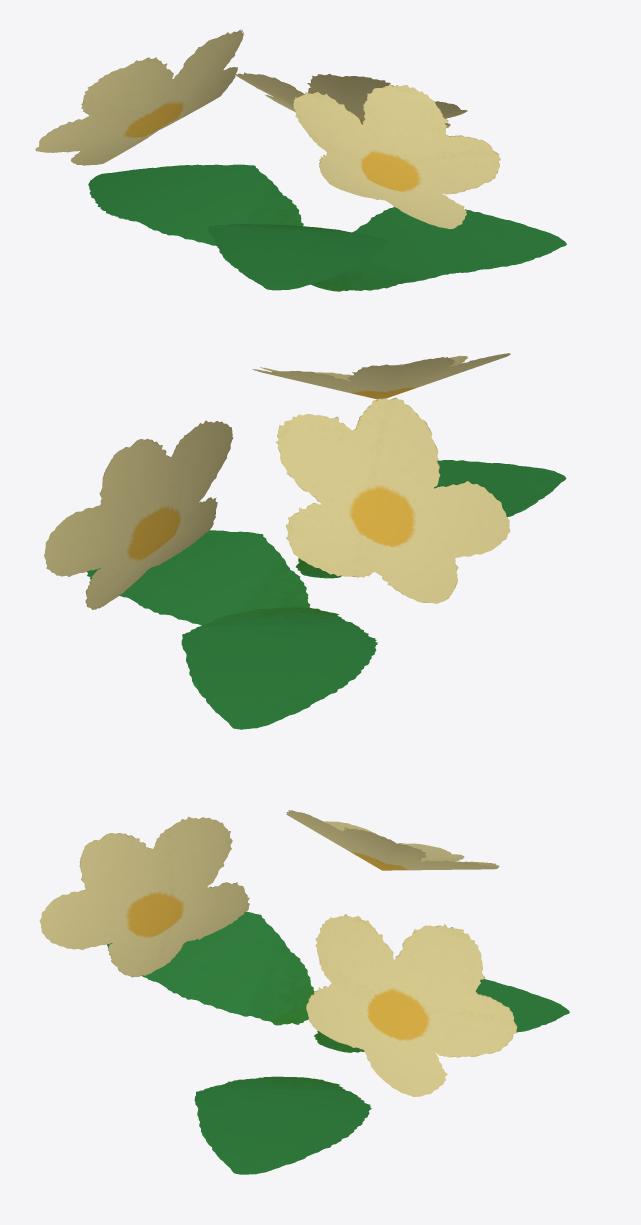
Rendered from SM_Flower.fbx.
3 renders of one model, top to bottom at view 1: azimuth 30°, elevation 25°; view 2: azimuth 150°, elevation 25°; view 3: azimuth 270°, elevation 25°, orthographic. The views are drawn at different scales.
Parts seen in each view (by area): view 1: SM_Flower; view 2: SM_Flower; view 3: SM_Flower.
Part boxes in pixels (box(x1,y1,x2,y2)): SM_Flower: box(35, 29, 566, 291); SM_Flower: box(44, 353, 566, 729); SM_Flower: box(39, 810, 569, 1174).
Bounding box in the file's own units: 167 × 83.95 × 179.
Materials: 1 (1 with a texture image).
